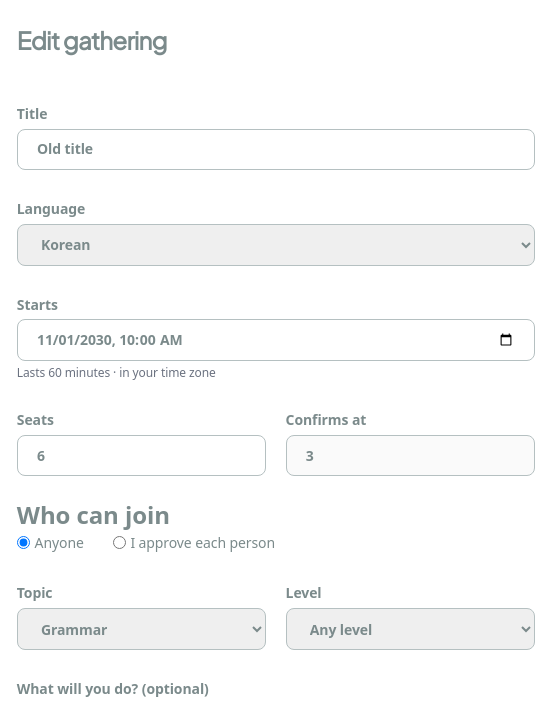
Test: refuses a capacity below the people already going, before asking the server
Replace the text in the number field with test id "gf-capacity" with "3" at {"x": 142, "y": 456}, box [17,435,266,476]
(page scrolled)
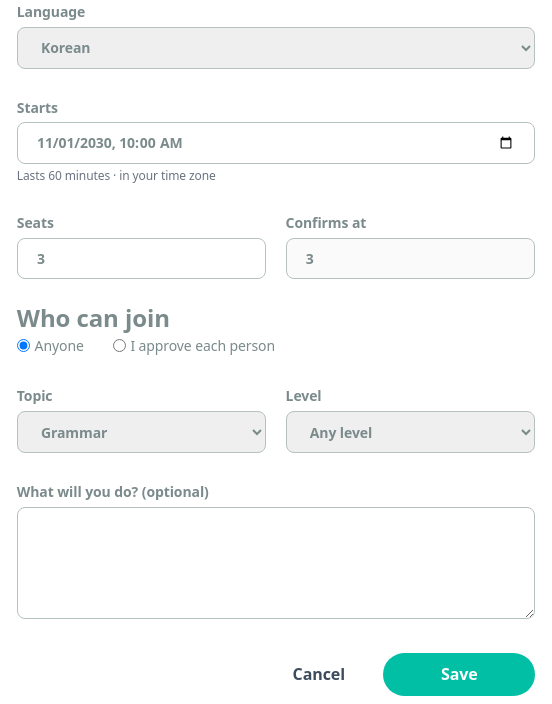
Click the button with test id "gf-submit".
click(459, 674)  # box [383,653,535,696]
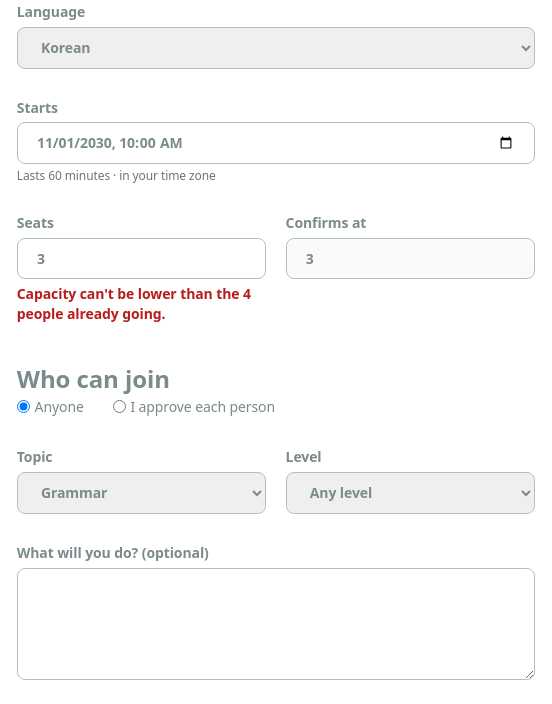
Check: the text with test id "gf-error-capacity" shows "4", box [17,284,251,323]
